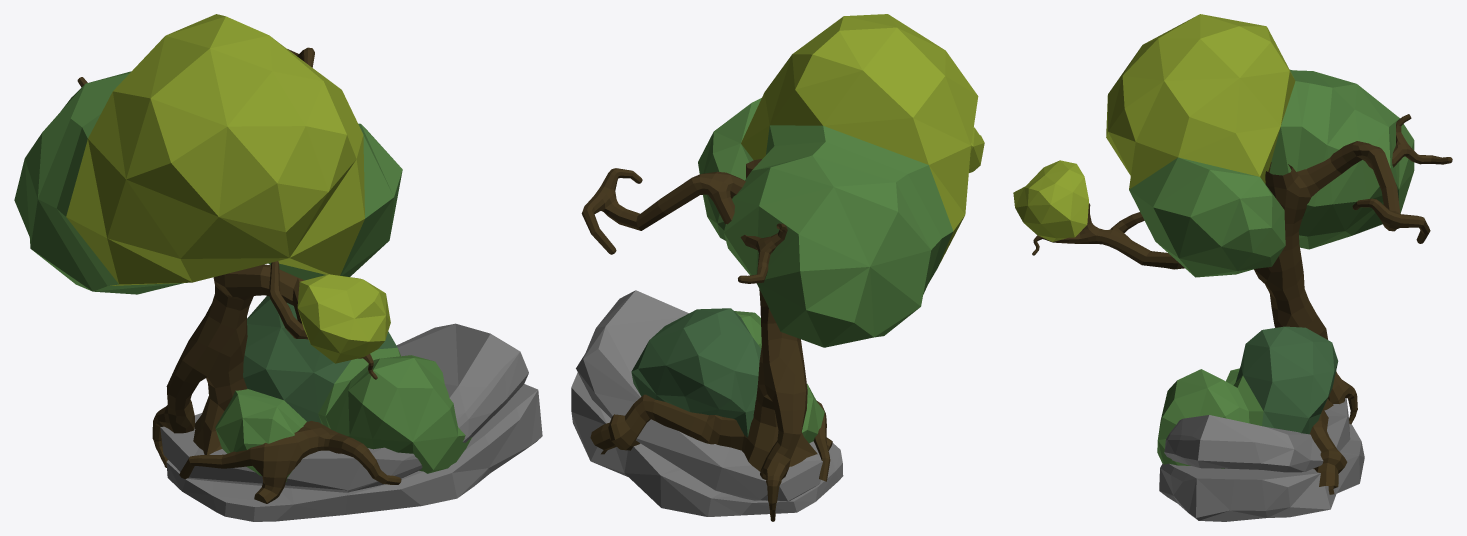
Rendered from EM_Tree9a.fbx.
3 renders of one model, left to right at view 1: azimuth 30°, elevation 25°; view 2: azimuth 150°, elevation 25°; view 3: azimuth 270°, elevation 25°, orthographic. The views are drawn at different scales.
Visible parts, largest first — view 1: EM_Tree9a_LOD0; view 2: EM_Tree9a_LOD0; view 3: EM_Tree9a_LOD0.
Boxes of the visible parts, bbox=[...] form: EM_Tree9a_LOD0: bbox=[14, 14, 542, 521]; EM_Tree9a_LOD0: bbox=[571, 14, 984, 521]; EM_Tree9a_LOD0: bbox=[1013, 14, 1452, 521].
Size of what is drawn, in the model's own units: 7.83 by 8.75 by 8.52.
